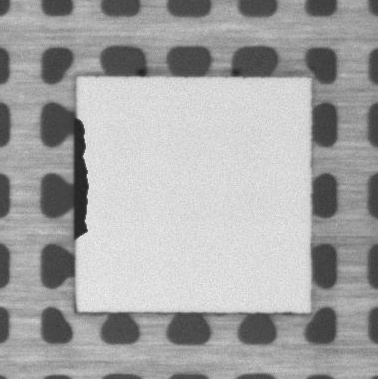DIE_BROKEN: (71, 111, 91, 243)
